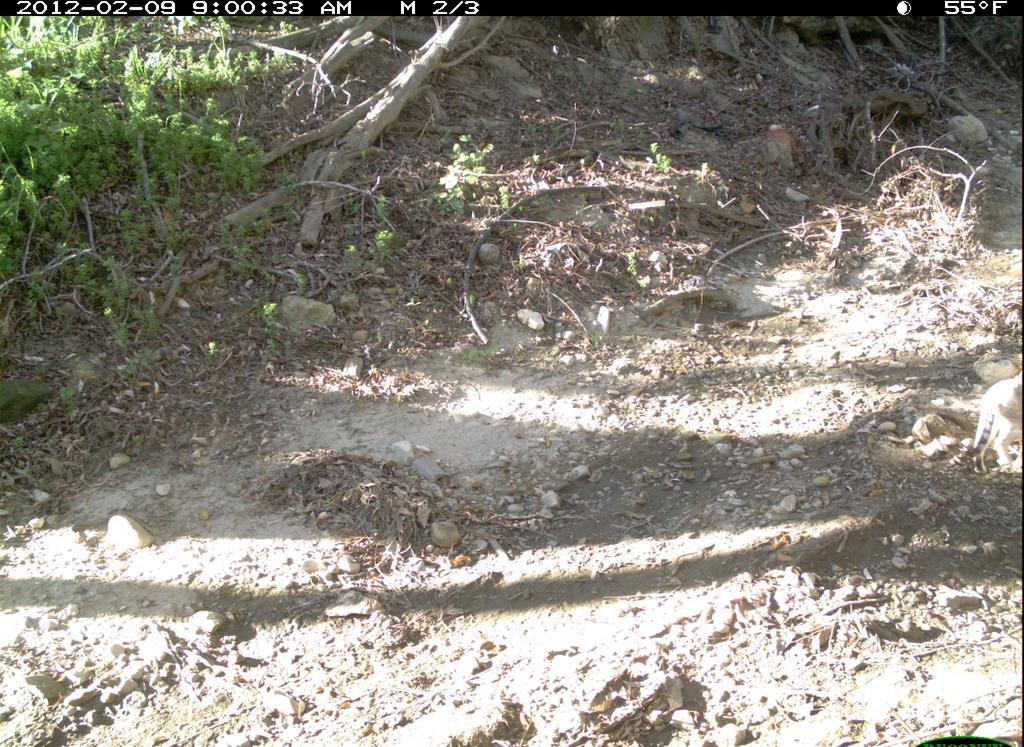cat: (963, 363, 1023, 484)
